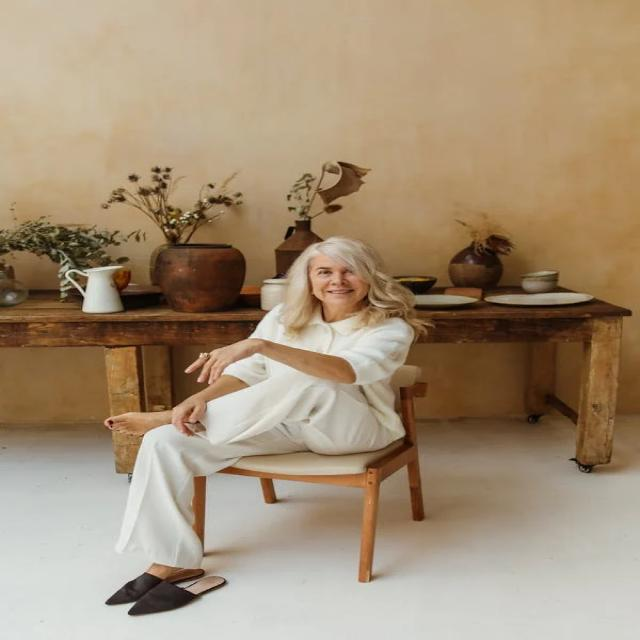Real human 2: (86, 228, 452, 622)
